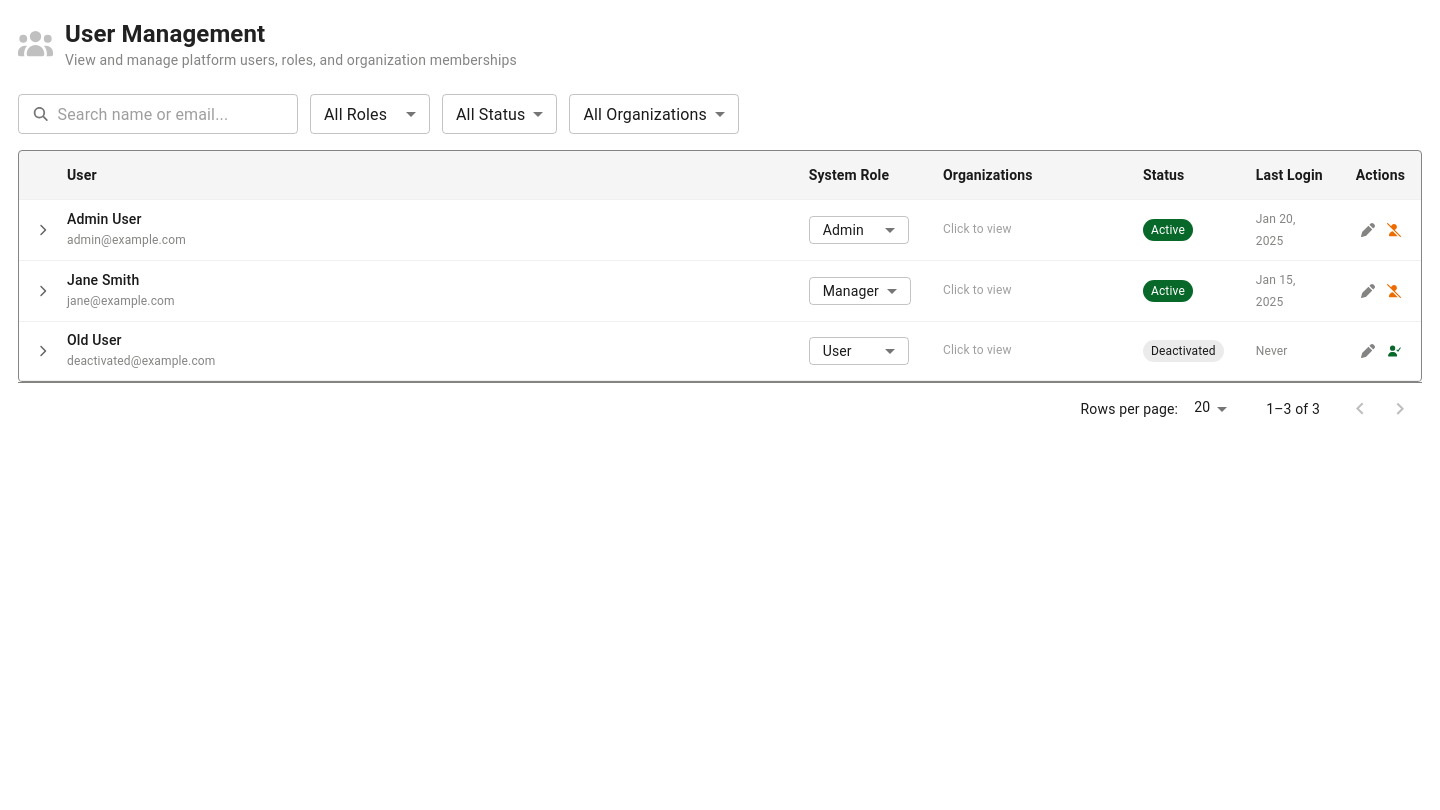
Test: UserListPage › opens edit dialog when edit button clicked
Check: the text "Jane Smith" is shown, box [67,272,139,288]
Click the button named "edit user" in the row of "Jane Smith" at [1368, 291], box [1357,280,1379,302]
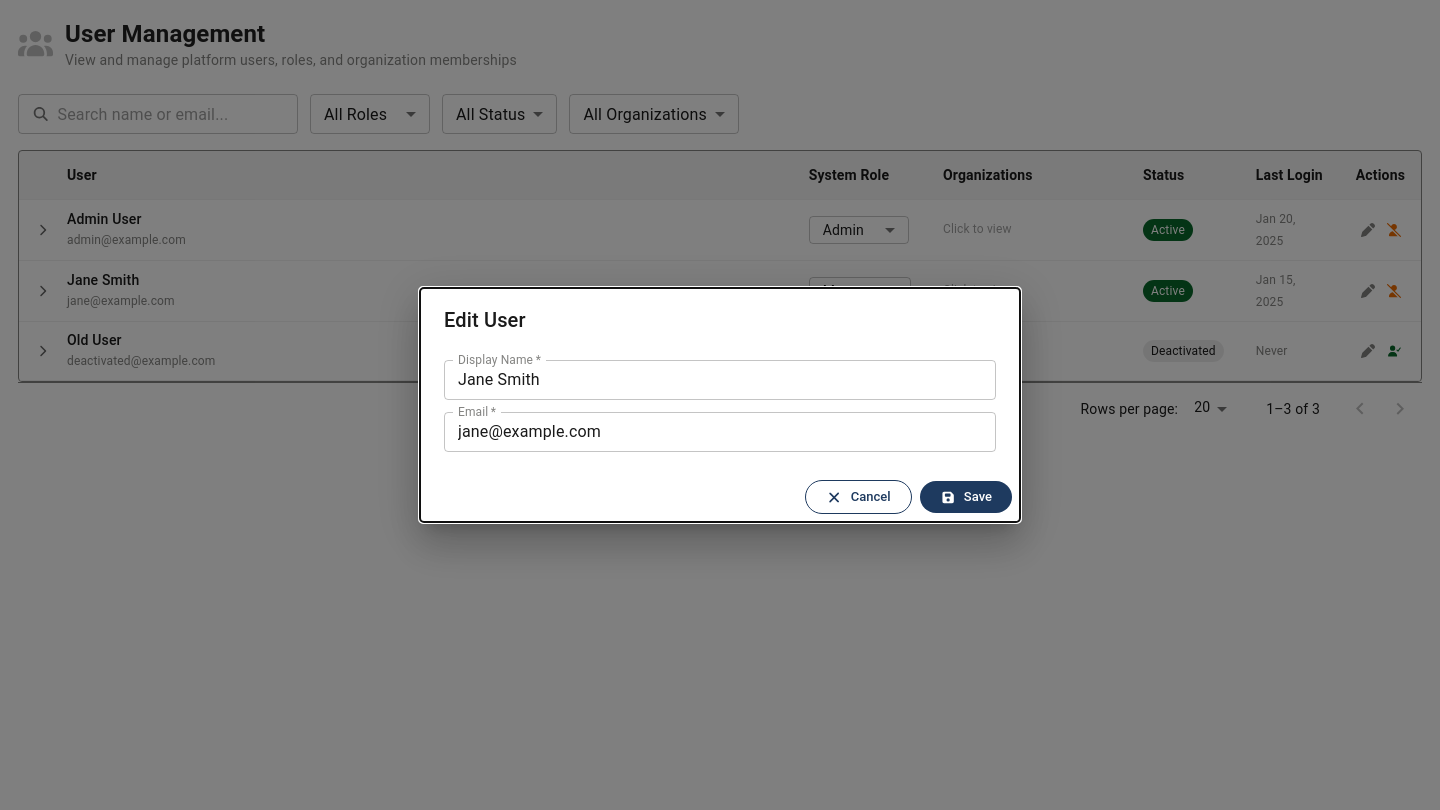
Check: the dialog is shown, box [420,288,1020,522]
Check: the field showing "Jane Smith" is shown, box [444,360,996,400]
